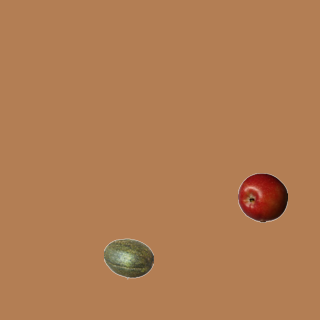Apple Braeburn: (237, 172, 287, 222)
Melon Piel de Sapo: (103, 233, 153, 283)
